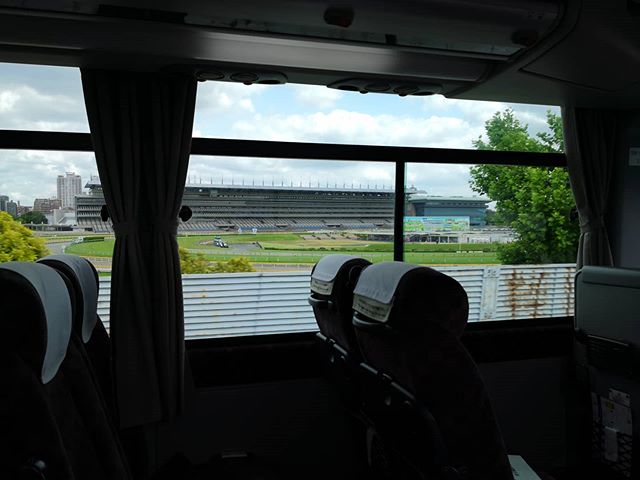chair: (1, 265, 172, 480), (388, 292, 540, 480)
sky: (1, 72, 490, 188)
tree: (474, 120, 578, 261)
